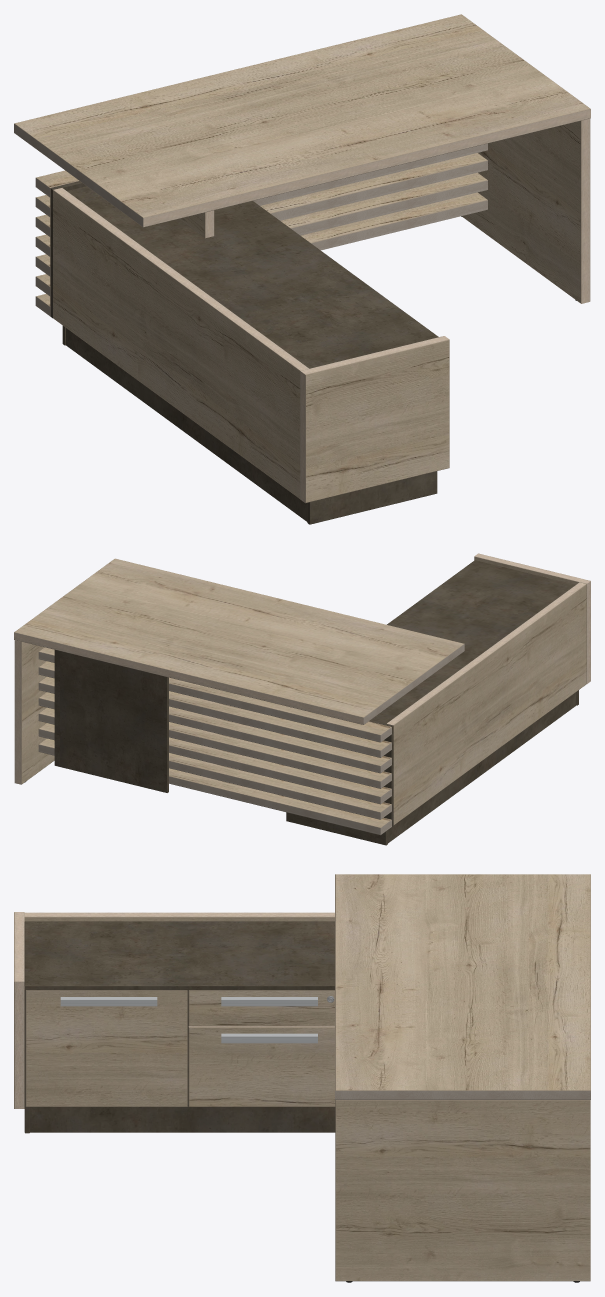
3 views of the same model, one above another, from view 1: azimuth 30°, elevation 25°; view 2: azimuth 150°, elevation 25°; view 3: azimuth 270°, elevation 25° (orthographic). The views are drawn at different scales.
Parts seen in each view (by area): view 1: Box1578995149, Line1789532198, Line1789532211, Line1789532197, Line1789532200, Line1789532205, Line1789532188, Line1789532206, Line1789532207, Line1789532184, Line1789532204; view 2: Box1578995149, Line1789532198, Line1789532201, Line1789532211, Line1789532200, Line1789532203, Line1789532207, Line1789532204, Line1789532205, Line1789532208, Line1789532206, Line1789532209 (+4 smaller); view 3: Box1578995149, Line1789532200, Line1789532211, Line1789532193, Line1789532195, Line1789532187, Line1789532194, Line1789532198, Line1789532197, Plane1018, Plane1016, Plane1017.
Part boxes in pixels (x1,y1,x2,y2): Box1578995149: [14, 14, 590, 227]; Line1789532198: [53, 188, 308, 498]; Line1789532211: [67, 186, 438, 368]; Line1789532197: [300, 336, 449, 503]; Line1789532200: [461, 118, 590, 303]; Line1789532205: [35, 153, 487, 276]; Line1789532188: [66, 328, 307, 521]; Line1789532206: [35, 172, 487, 296]; Line1789532207: [35, 192, 487, 315]; Line1789532184: [307, 471, 437, 524]; Line1789532204: [35, 143, 487, 256]; Box1578995149: [14, 558, 464, 724]; Line1789532198: [387, 582, 586, 825]; Line1789532201: [54, 650, 168, 792]; Line1789532211: [371, 560, 575, 723]; Line1789532200: [14, 640, 54, 784]; Line1789532203: [38, 676, 391, 773]; Line1789532207: [38, 738, 391, 835]; Line1789532204: [38, 692, 391, 788]; Line1789532205: [38, 707, 391, 804]; Line1789532208: [38, 661, 391, 757]; Line1789532206: [38, 723, 391, 819]; Line1789532209: [38, 647, 391, 742]; Box1578995149: [335, 874, 590, 1099]; Line1789532200: [335, 1100, 590, 1281]; Line1789532211: [24, 921, 334, 990]; Line1789532193: [25, 990, 187, 1106]; Line1789532195: [188, 1026, 335, 1106]; Line1789532187: [30, 1105, 335, 1132]; Line1789532194: [188, 990, 334, 1026]; Line1789532198: [24, 912, 334, 921]; Line1789532197: [14, 912, 24, 1108]; Plane1018: [221, 1033, 317, 1043]; Plane1016: [60, 997, 157, 1006]; Plane1017: [221, 997, 317, 1006].
Bounding box in the file's own units: 1.8 × 0.75 × 2.03.
Materials: 8 (6 with a texture image).
